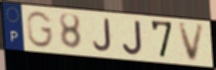7: (149, 19, 174, 61)
8: (58, 12, 83, 53)
G: (25, 10, 55, 50)
J: (121, 19, 144, 56), (91, 17, 114, 53)
V: (176, 22, 207, 64)
